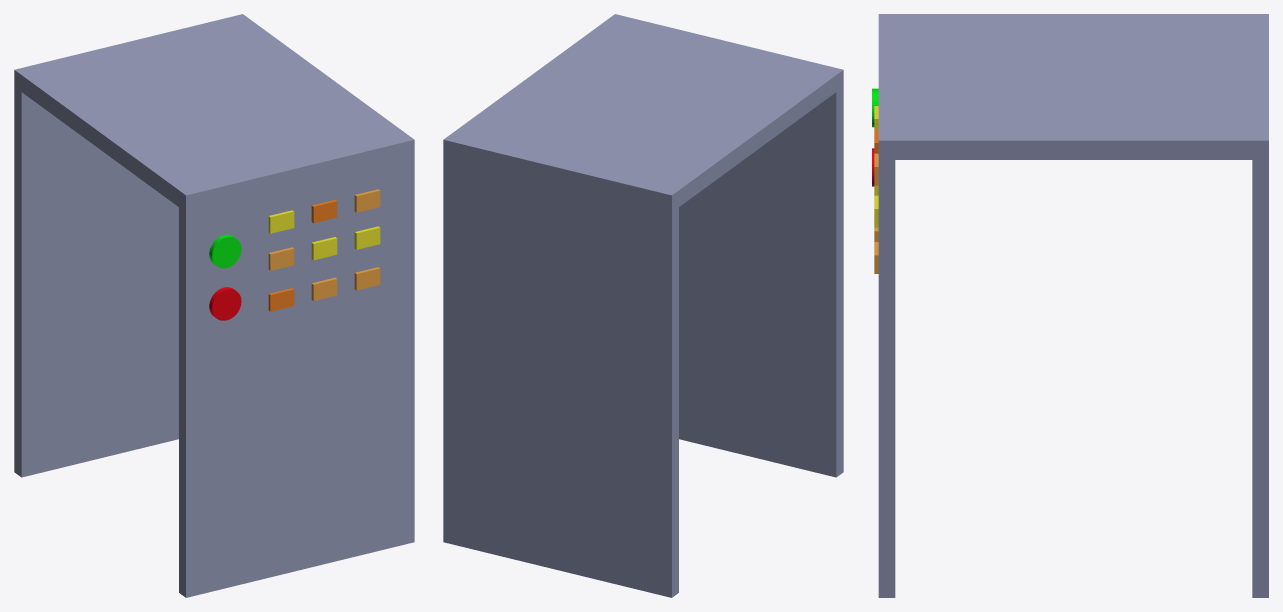
Rendered from rerna.fbx.
The picture shows the model from 3 angles, left to right: view 1: azimuth 30°, elevation 25°; view 2: azimuth 150°, elevation 25°; view 3: azimuth 270°, elevation 25°; orthographic projection. The views are drawn at different scales.
Parts seen in each view (by area): view 1: Cube.012; view 2: Cube.012; view 3: Cube.012.
Part boxes in pixels (box(x1,y1,x2,y2)): Cube.012: box(14, 14, 414, 597); Cube.012: box(443, 14, 843, 597); Cube.012: box(872, 14, 1268, 597).
Size of the model in its own units: 373 by 628 by 494.
